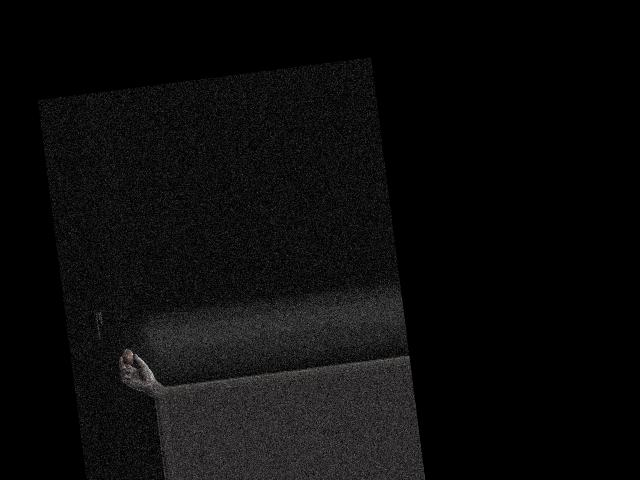egg: (121, 349, 134, 366)
